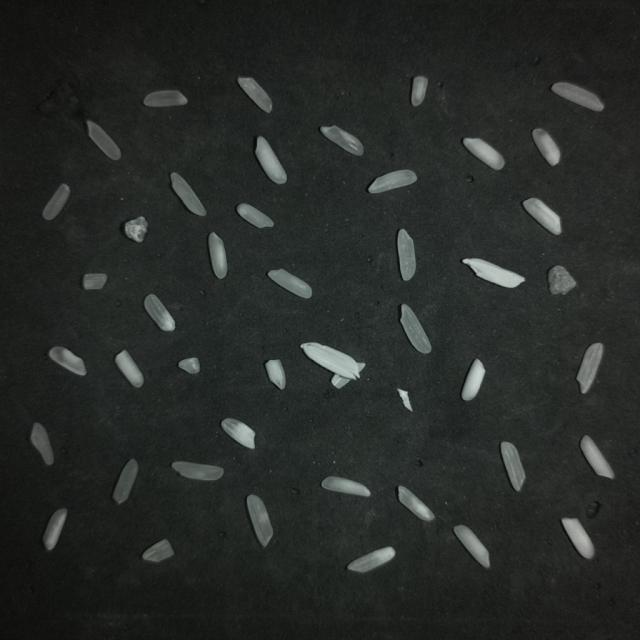broken: (49, 347, 86, 376), (142, 539, 174, 562), (83, 274, 107, 289), (179, 357, 200, 374)
chalky: (454, 525, 489, 568), (580, 435, 614, 479), (255, 137, 286, 184), (523, 198, 561, 234), (562, 518, 594, 559), (267, 269, 312, 298), (346, 546, 396, 572), (398, 485, 434, 521), (463, 139, 504, 169), (115, 350, 143, 387), (532, 129, 560, 166), (461, 359, 485, 401), (43, 509, 67, 550), (321, 476, 370, 496), (222, 419, 254, 449), (209, 232, 227, 278), (265, 360, 285, 389), (411, 76, 428, 106)
foreign: (301, 343, 359, 379), (462, 259, 524, 288), (30, 423, 54, 464), (237, 204, 274, 228), (548, 265, 576, 294), (124, 217, 148, 243), (397, 389, 412, 411), (332, 374, 351, 388)
whole: (170, 173, 206, 216), (400, 304, 431, 353), (551, 83, 603, 111), (86, 120, 121, 160), (247, 495, 273, 547), (320, 125, 363, 156), (577, 343, 603, 393), (237, 77, 272, 113), (501, 442, 525, 491), (144, 294, 175, 331), (113, 459, 138, 504), (369, 170, 416, 193), (397, 229, 416, 281), (43, 184, 70, 220), (172, 462, 223, 481), (144, 90, 187, 107)
